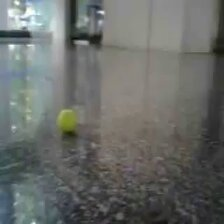tennis: (55, 109, 78, 133)
